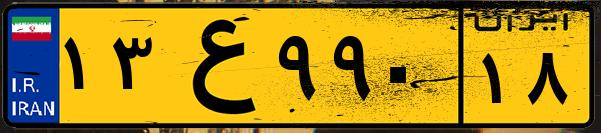0: (385, 28, 445, 110)
1: (57, 26, 110, 100), (475, 38, 525, 113)
3: (110, 28, 158, 98)
8: (525, 38, 570, 115)
9: (270, 28, 330, 110), (330, 28, 385, 110)
ع: (158, 12, 270, 120)
